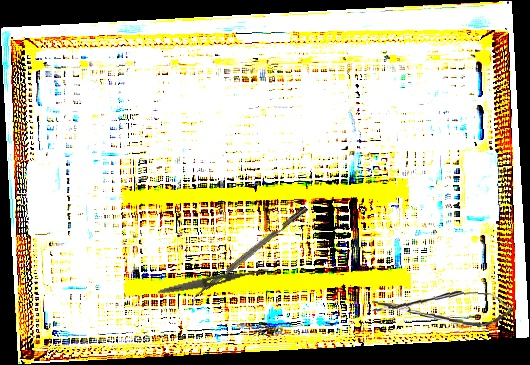Chopper: (186, 205, 313, 309)
Dressing Forceps: (157, 264, 271, 297)
Micro Scissor: (370, 285, 514, 329)
